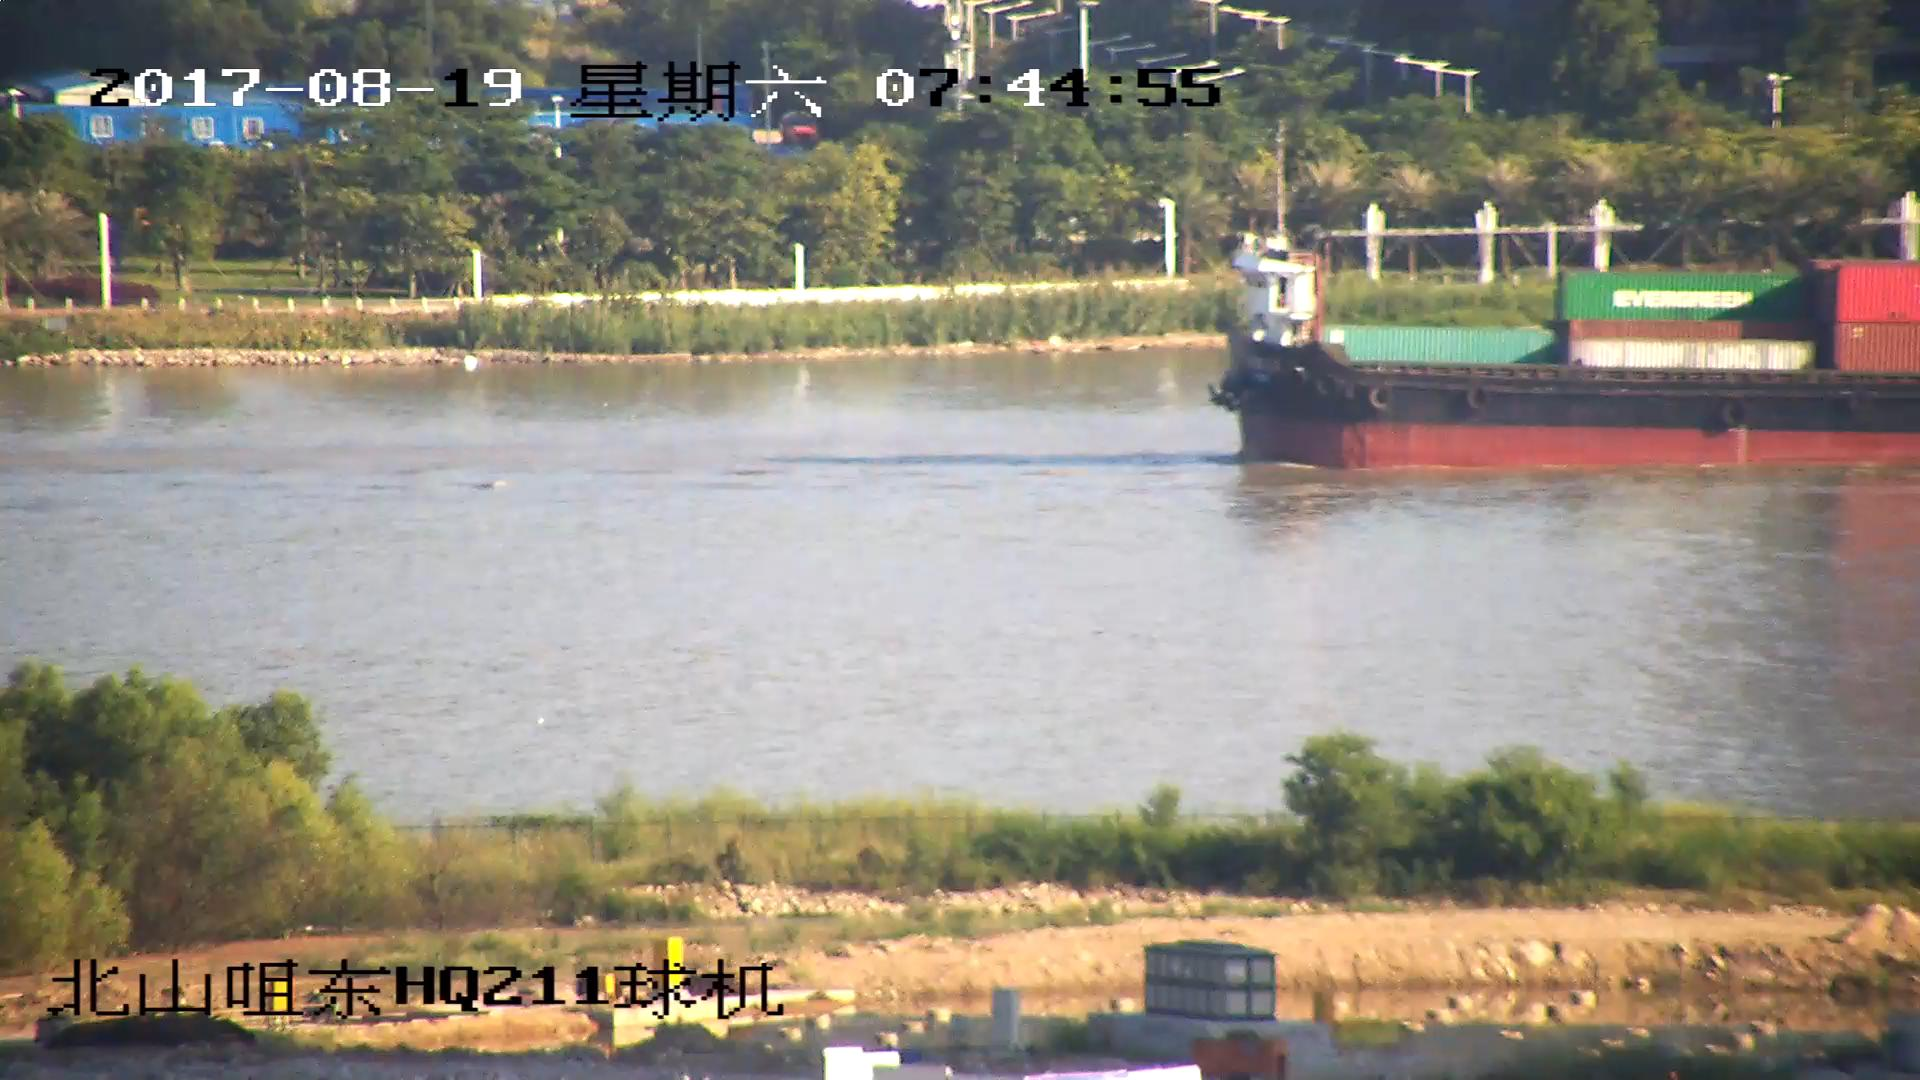container ship: (1207, 220, 1920, 473)
